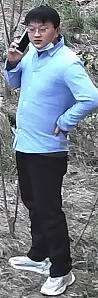phone: (8, 7, 86, 83)
